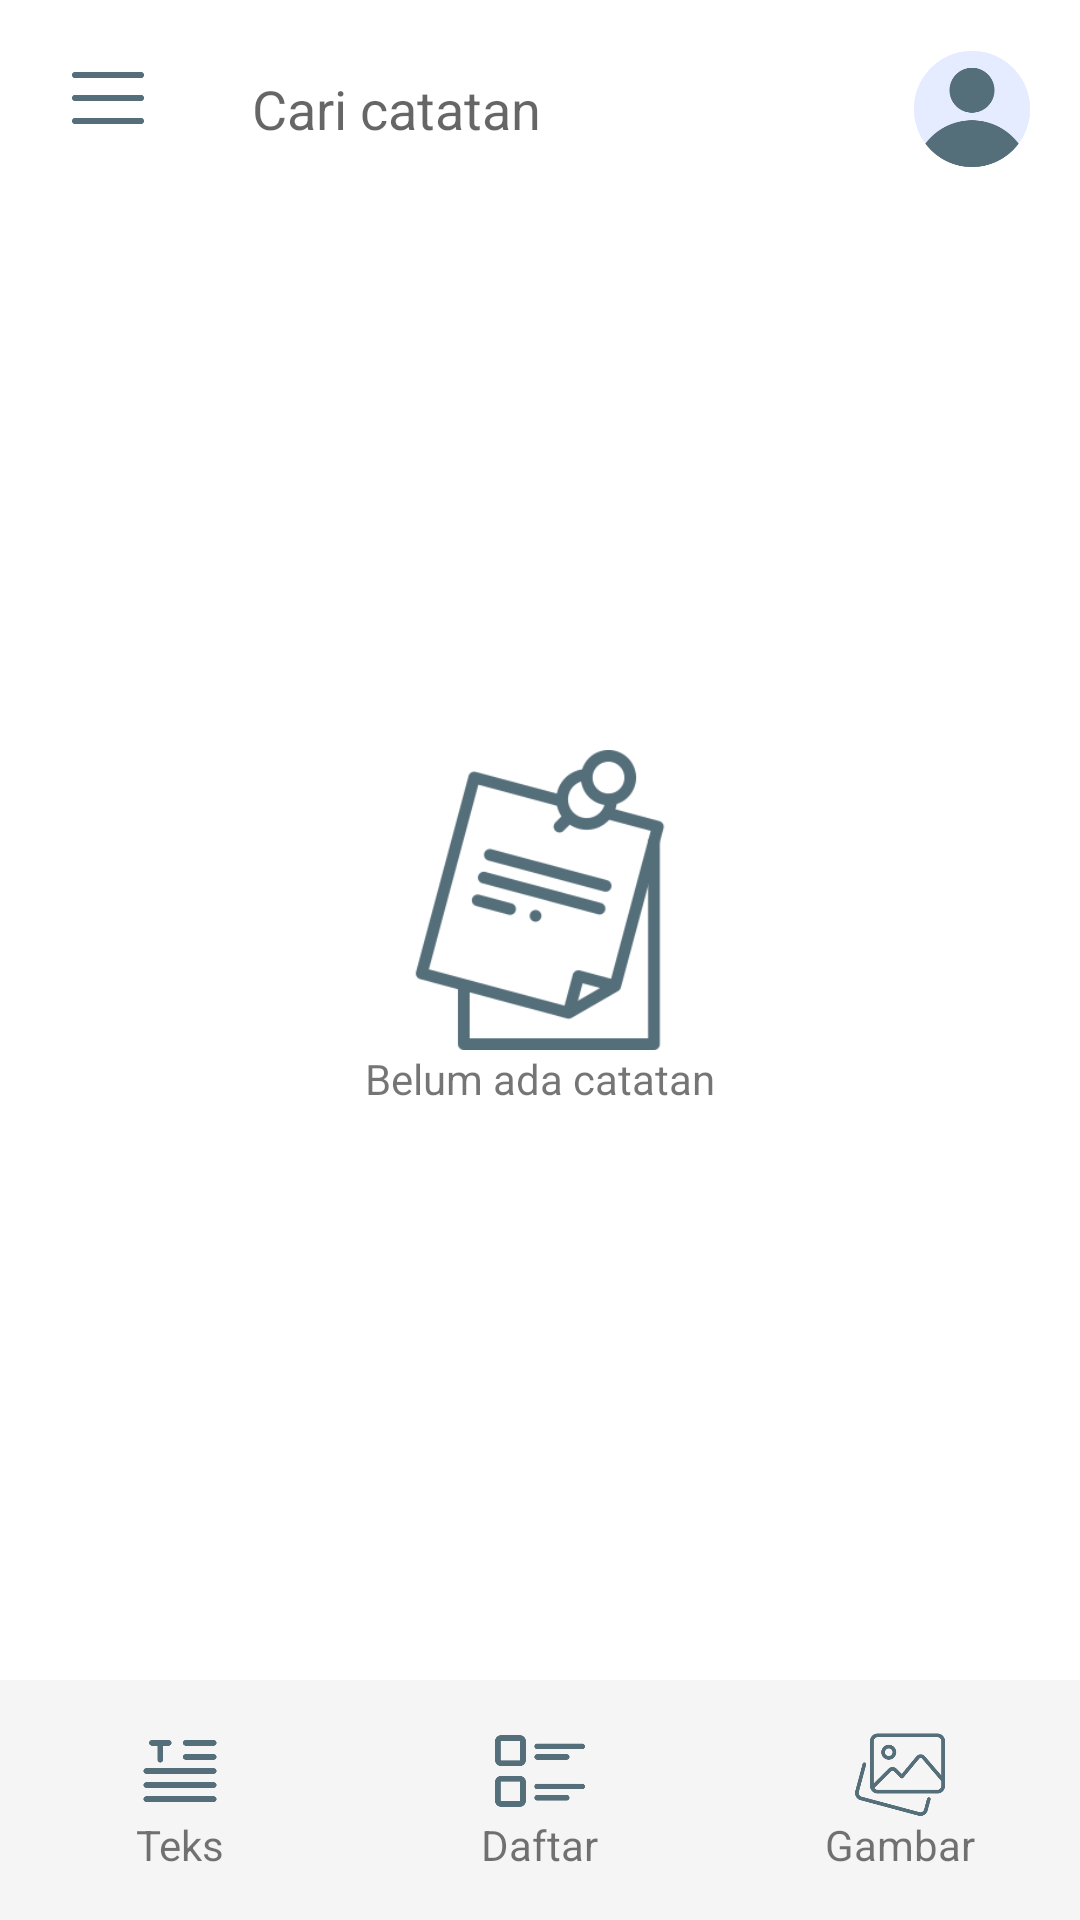

Icons on this 1080x1920 Android screen, each with the point to tap as (x,y):
menu: (108,98)
user: (972,109)
